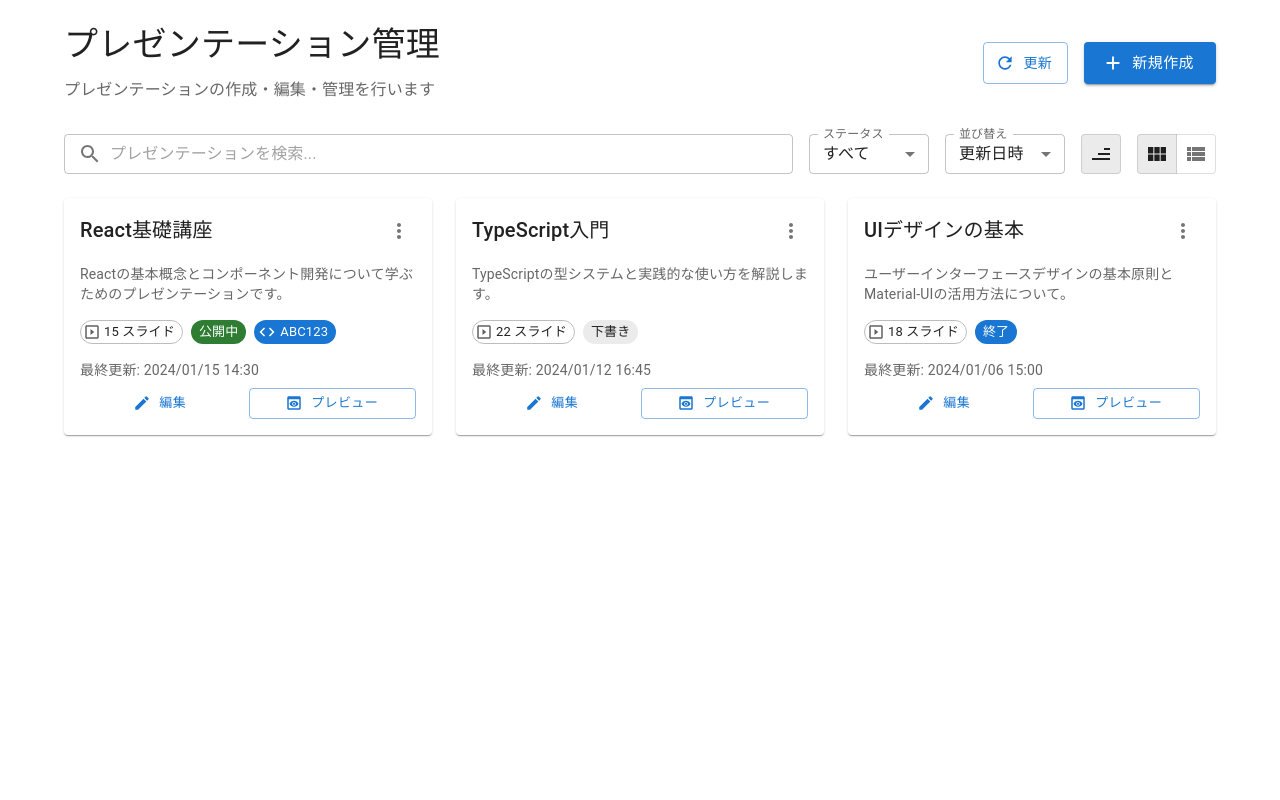
Test case: PresenterDashboard › 削除確認ダイアログが正しく機能する
Expected: the heading "React基礎講座" is shown, [80,218,212,242]
Note:  メニューを開く
Click the button named "メニューを開く" in the row of "React基礎講座" at (399, 231), box [382,214,416,248]
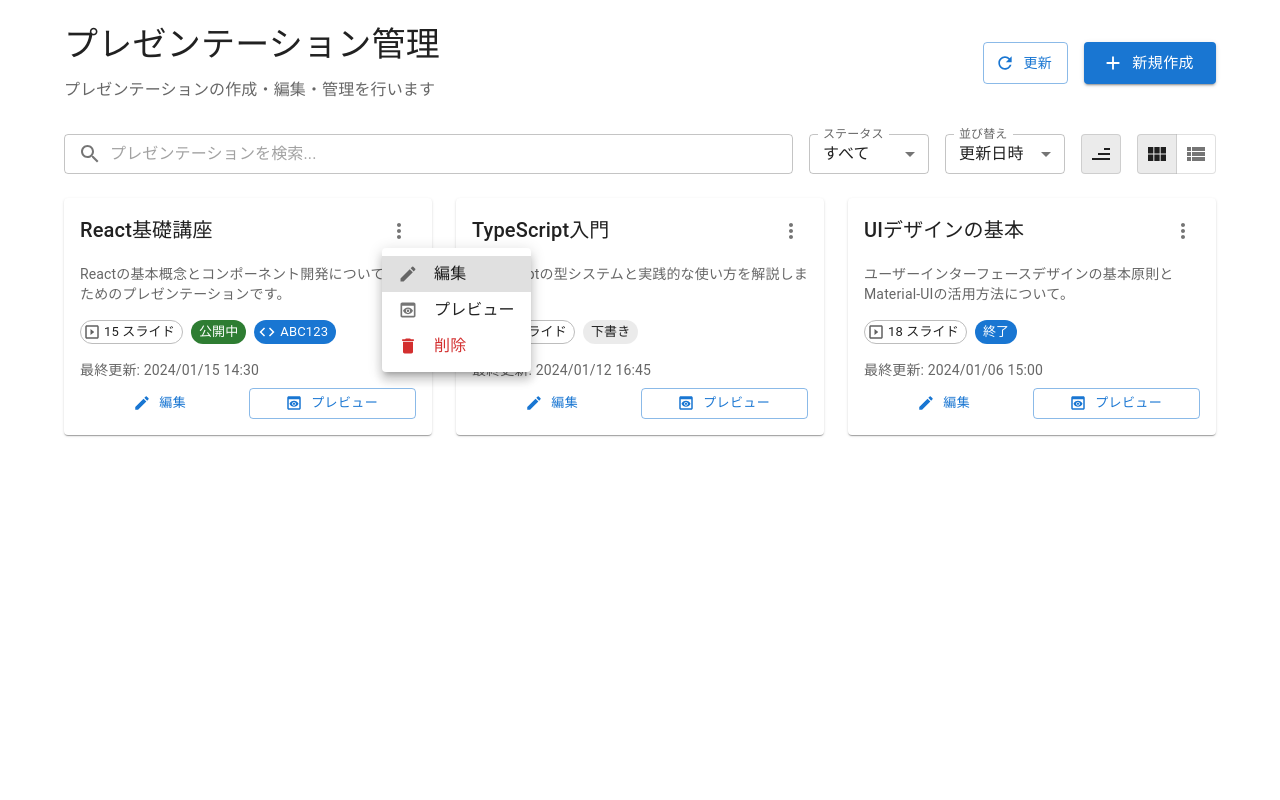
Note: 削除オプションをクリック
Click the menu item "削除" at (432, 346), box [398,336,466,356]
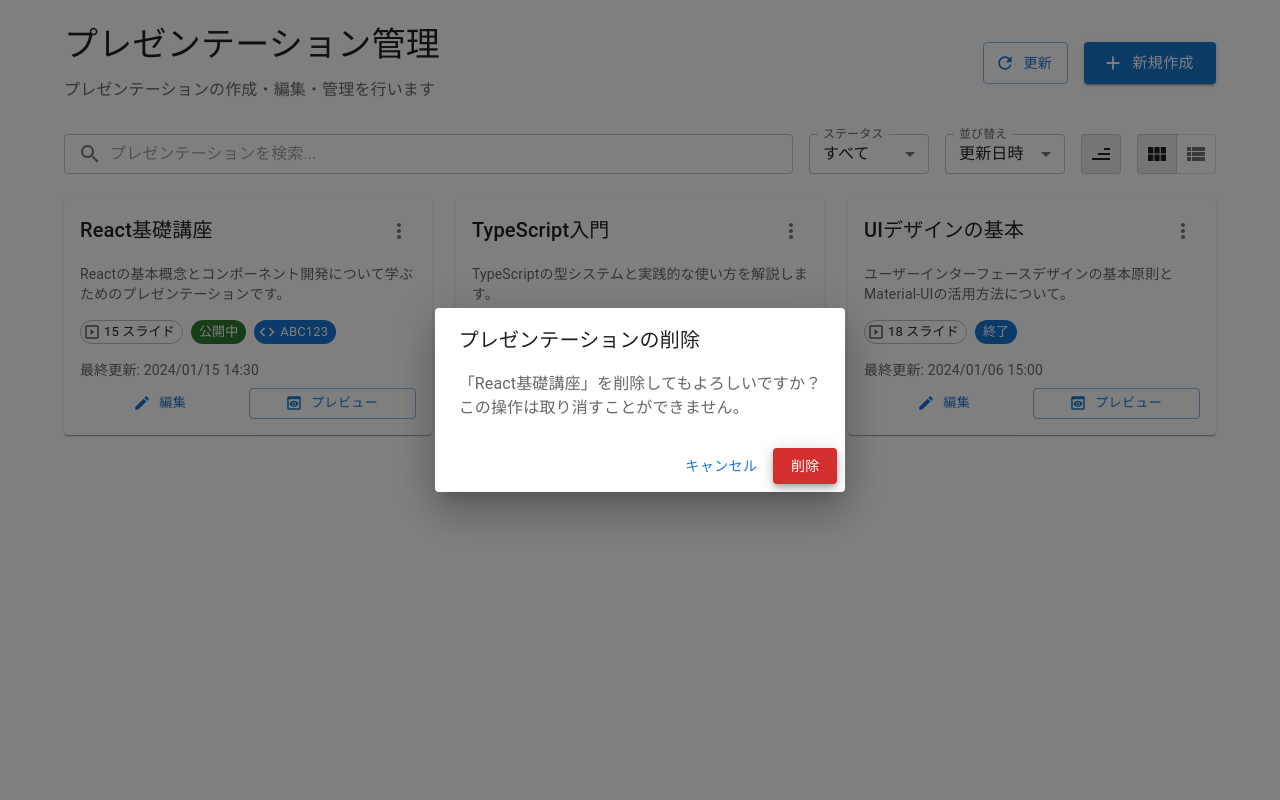
Result: the heading "プレゼンテーションの削除" is shown at [459,328,700,352]
Result: the text "「React基礎講座」を削除してもよろしいですか？この操作は取り消すことができません。" is shown at [459,372,821,420]
Note: キャンセルボタンをテスト
Click the button "キャンセル" at (721, 466), box [677,448,765,484]
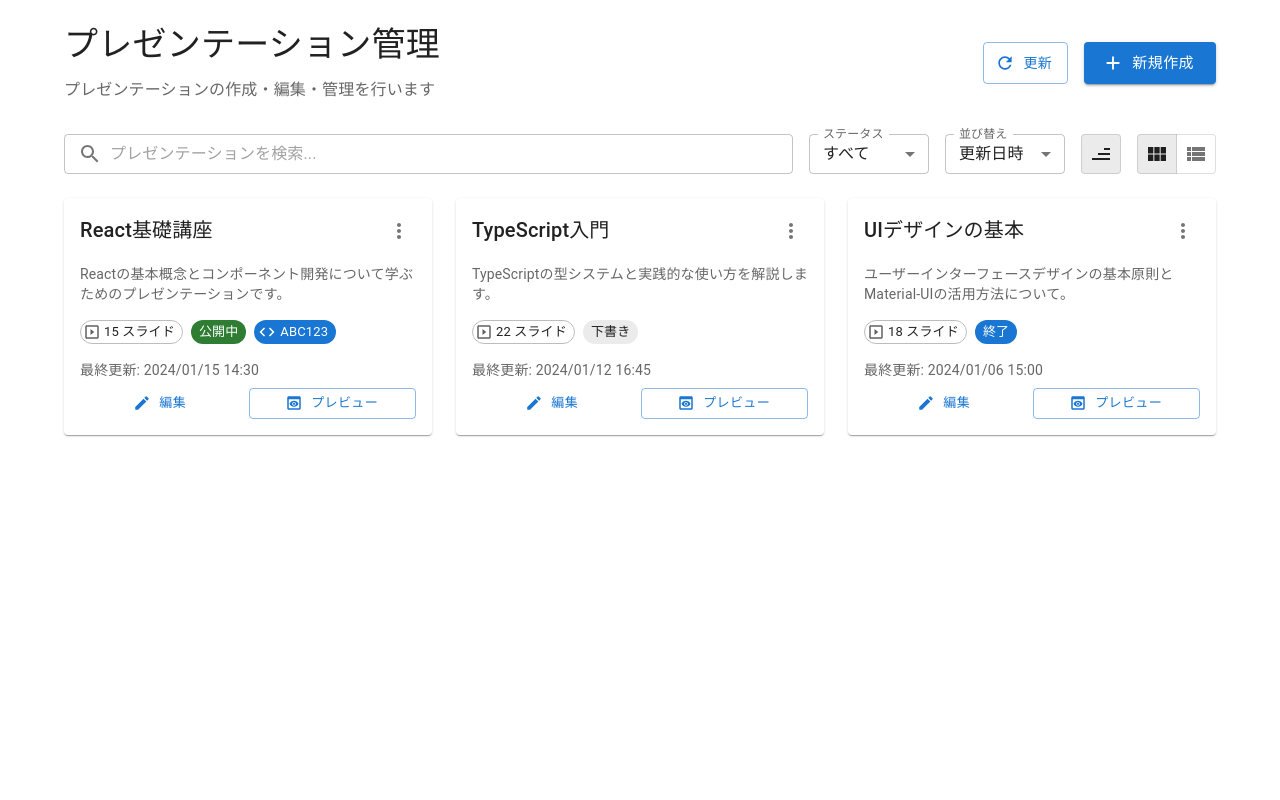
Result: the heading "プレゼンテーションの削除" is gone
